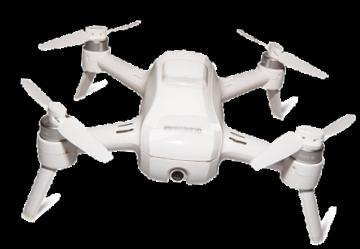drone: (1, 23, 348, 225)
